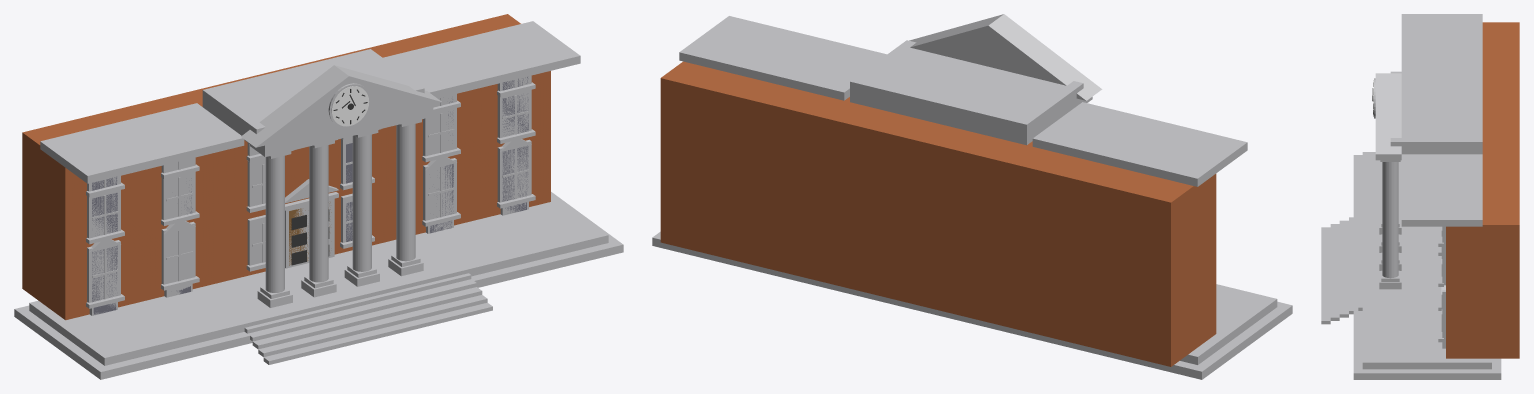
Rendered from clock_tower.glb.
3 renders of one model, left to right at view 1: azimuth 30°, elevation 25°; view 2: azimuth 150°, elevation 25°; view 3: azimuth 270°, elevation 25°, orthographic. The views are drawn at different scales.
Visible parts, largest first — view 1: Base2, Wall_Left, Wall_Right, Wall_Center, Cornice_Left, Cornice_Right, Roof_Center, Pediment, Base1, ColShaft_1, ColShaft_2, ColShaft_0 (+24 smaller); view 2: Wall_Center, Wall_Left, Wall_Right, Roof_Center, Cornice_Left, Cornice_Right, Pediment, Base1, Base2; view 3: Wall_Right, Base2, Roof_Center, Cornice_Right, Cornice_Left, Base1, Wall_Center, Base_Columns, Wall_Left, Pediment, ColShaft_3, Stair_4 (+7 smaller).
Part boxes in pixels (<box>): Base2: <box>29,193,608,365</box>; Wall_Left: <box>22,96,214,320</box>; Wall_Right: <box>359,14,550,234</box>; Wall_Center: <box>172,50,396,283</box>; Cornice_Left: <box>40,103,244,183</box>; Cornice_Right: <box>383,21,580,98</box>; Roof_Center: <box>202,49,424,148</box>; Pediment: <box>241,65,441,147</box>; Base1: <box>14,192,623,379</box>; ColShaft_1: <box>309,145,328,282</box>; ColShaft_2: <box>352,134,371,271</box>; ColShaft_0: <box>265,155,284,292</box>; Wall_Center: <box>817,97,1036,328</box>; Wall_Left: <box>1014,148,1216,366</box>; Wall_Right: <box>660,61,839,280</box>; Roof_Center: <box>850,40,1083,145</box>; Cornice_Left: <box>1032,102,1247,186</box>; Cornice_Right: <box>679,16,886,100</box>; Pediment: <box>909,14,1102,100</box>; Base1: <box>652,231,1292,379</box>; Base2: <box>1180,284,1277,364</box>; Wall_Right: <box>1446,162,1519,358</box>; Base2: <box>1362,152,1491,369</box>; Roof_Center: <box>1390,71,1482,158</box>; Cornice_Right: <box>1401,154,1482,226</box>; Cornice_Left: <box>1401,14,1482,71</box>; Base1: <box>1353,155,1501,379</box>; Wall_Center: <box>1482,84,1519,162</box>; Base_Columns: <box>1362,218,1418,296</box>; Wall_Left: <box>1482,22,1519,84</box>; Pediment: <box>1375,73,1401,154</box>; ColShaft_3: <box>1382,162,1398,278</box>; Stair_4: <box>1321,227,1330,324</box>.
Size of the model in its own units: 28 by 12.2 by 10.75.
